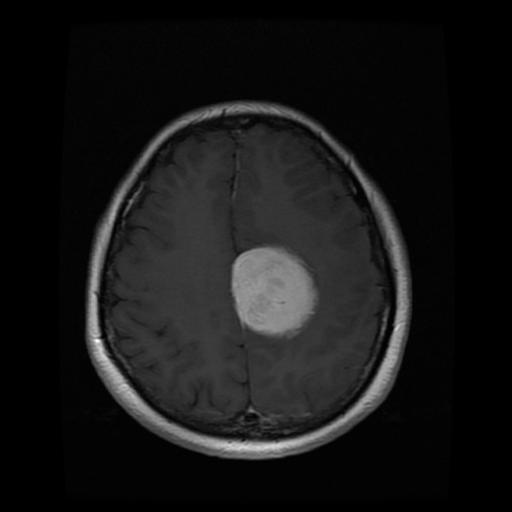Menigiomia_tumour: (231, 246, 318, 334)
